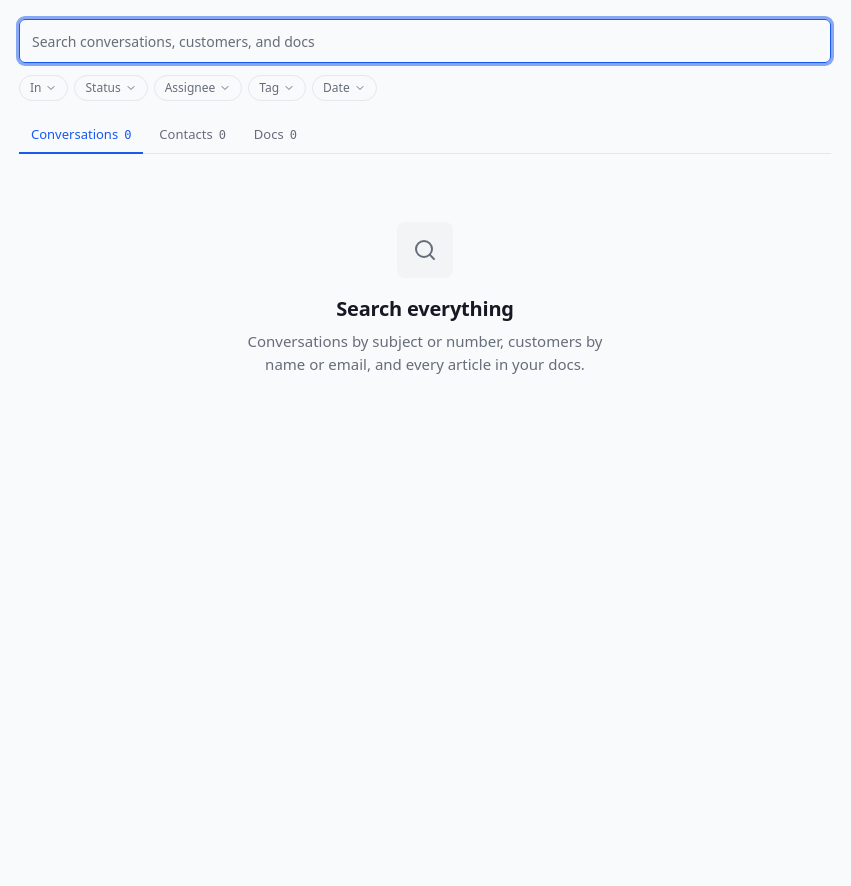
Test case: global search › marks the matched span in a result
Type "billing" into the field labelled "Search" at (425, 41), box [19,19,831,63]
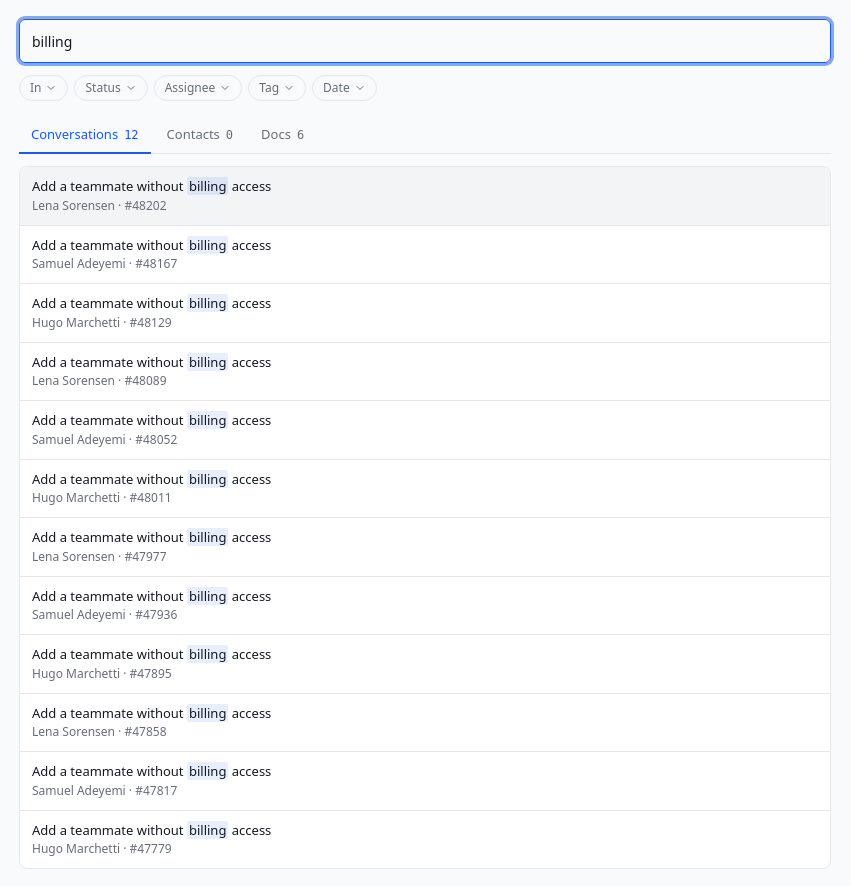
Expected: the list named "search results" is shown
Expected: the 1st text "billing" is shown, [187,177,228,195]
